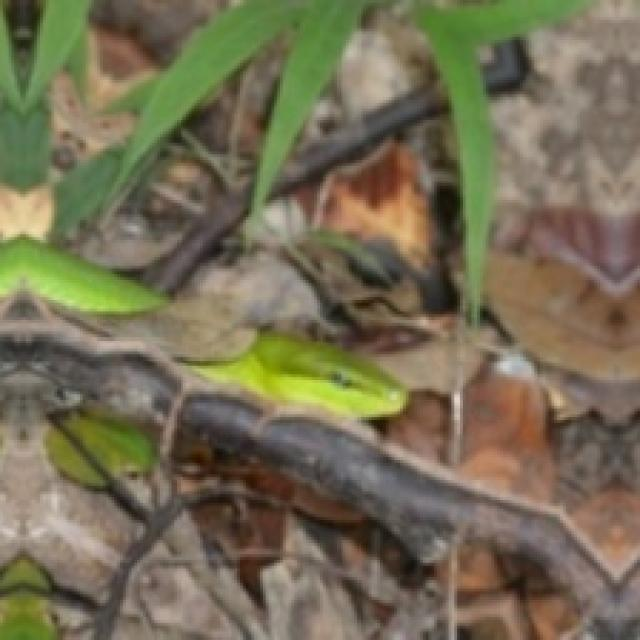red-tailed green ratsnake: (186, 331, 408, 418), (0, 236, 168, 315)
